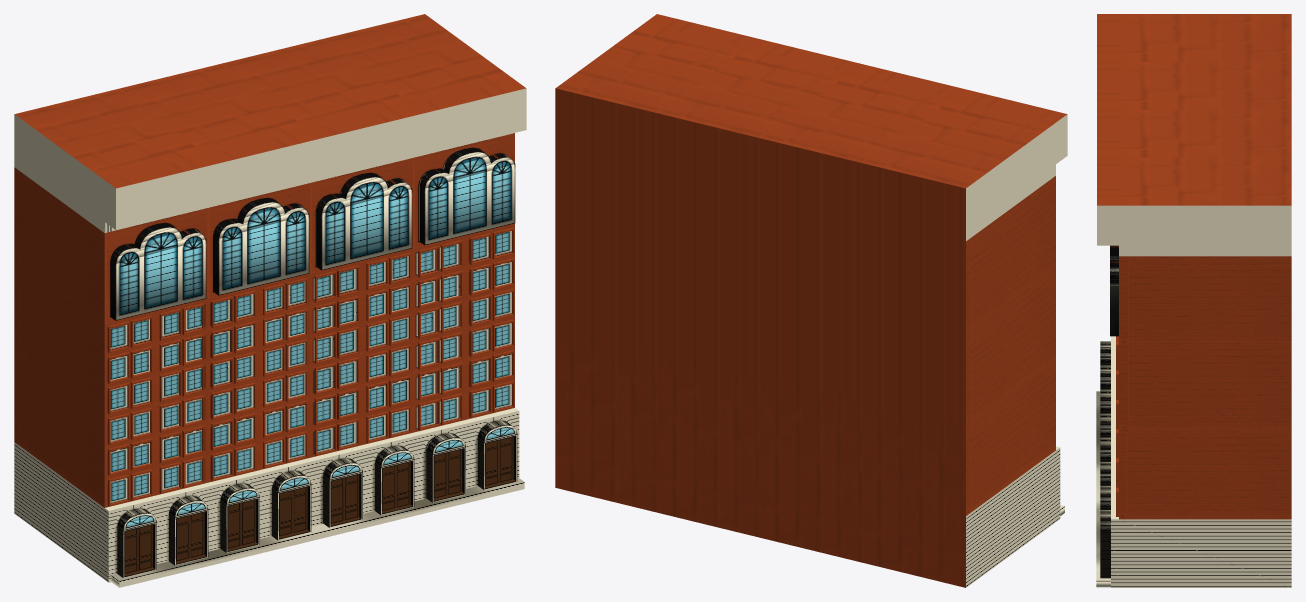
File: OldBuildingBlock2.fbx
The picture shows the model from 3 angles, left to right: view 1: azimuth 30°, elevation 25°; view 2: azimuth 150°, elevation 25°; view 3: azimuth 270°, elevation 25°; orthographic projection. The views are drawn at different scales.
Parts seen in each view (by area): view 1: Old building Block 2; view 2: Old building Block 2; view 3: Old building Block 2.
Boxes of the visible parts, x1,y1,x2,y2 form: Old building Block 2: [14, 14, 526, 587]; Old building Block 2: [555, 14, 1067, 587]; Old building Block 2: [1096, 14, 1291, 587].
Bounding box in the file's own units: 656 × 610 × 282.
